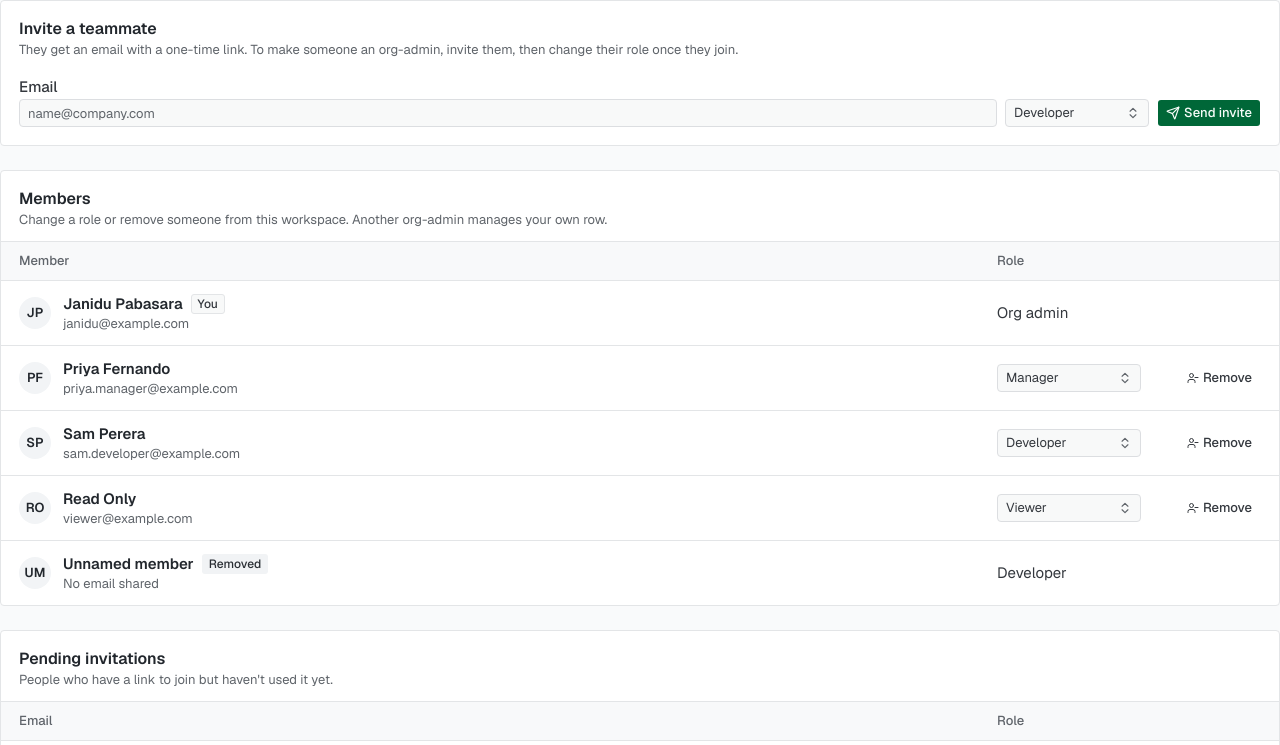
Test: an address already invited is a conflict, not a delivery failure
The width and height of the screenshot is (1280, 745).
Type "new.hire@example.com" into the field labelled "Email" at {"x": 508, "y": 113}, box left=19, top=99, right=997, bottom=127
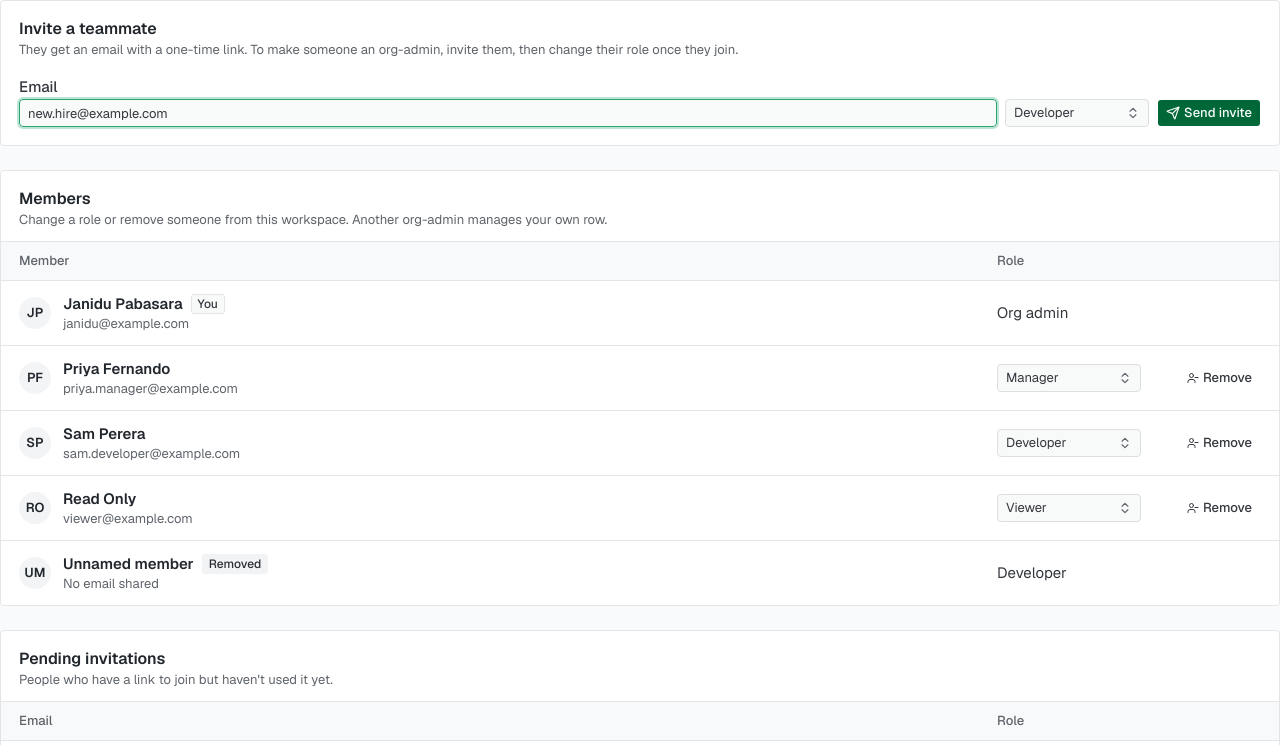
Click the button "Send invite" at {"x": 1209, "y": 113}, box left=1157, top=99, right=1261, bottom=127
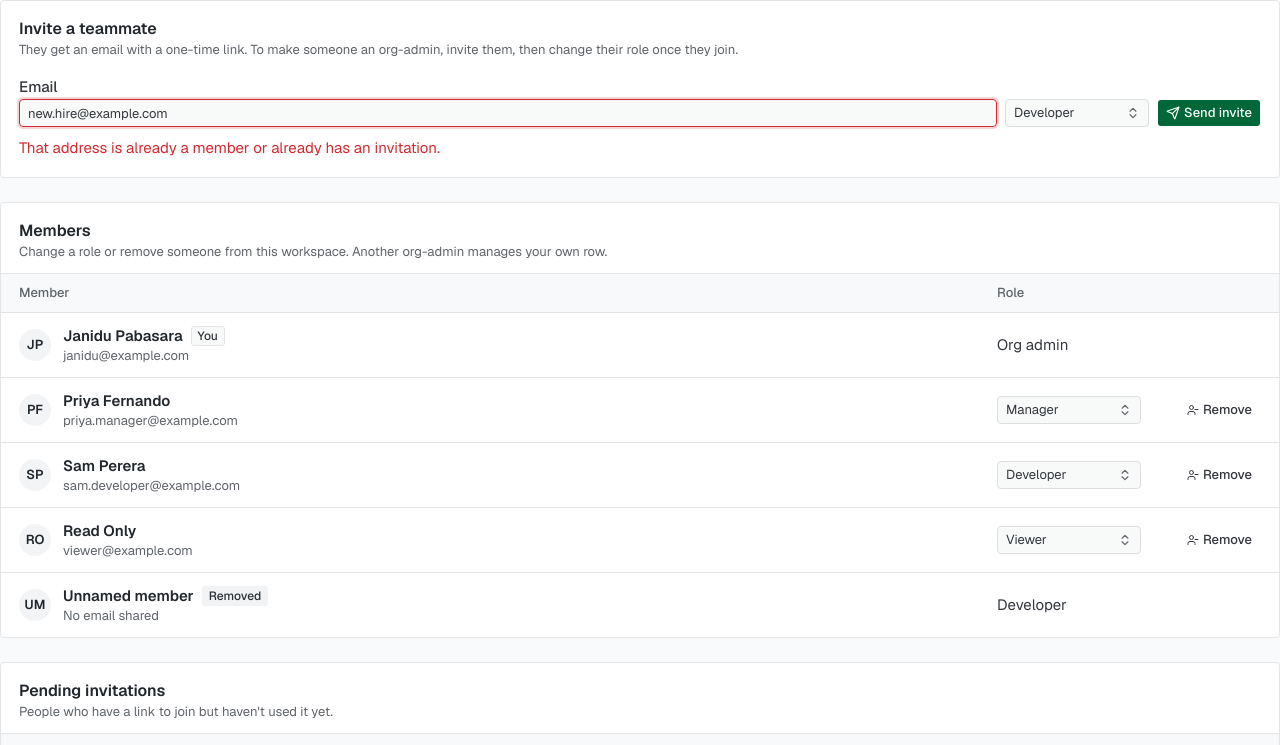
Expected: the message shows "already a member or already has", left=19, top=138, right=440, bottom=157
